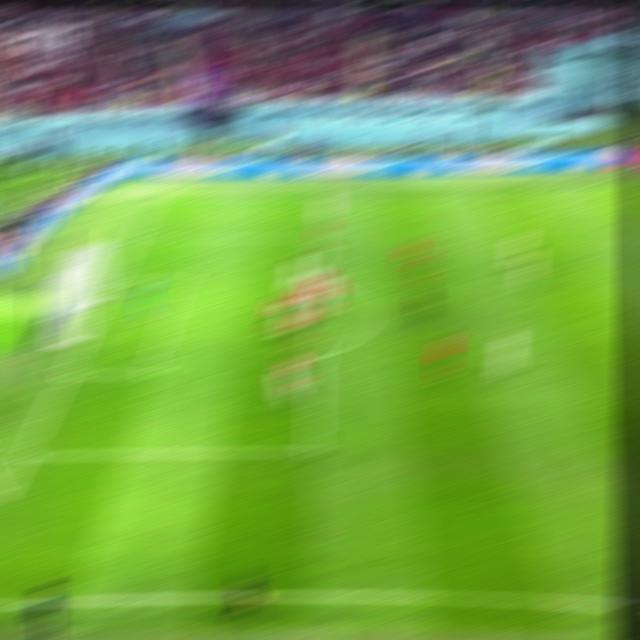bigarea_bottom_inner: (296, 439, 329, 460)
bigarea_bottom_outter: (12, 447, 39, 464)
bigarea_top_inner: (307, 230, 331, 245)
bigarea_top_outter: (125, 231, 149, 243)
bottom_arc_area_intersection: (302, 352, 330, 369)
corner: (145, 191, 170, 200)
smallarea_bottom_inner: (136, 359, 166, 382)
smallarea_bottom_outter: (54, 362, 82, 382)
smallarea_top_inner: (168, 270, 196, 286)
smallarea_top_outter: (102, 270, 129, 285)
